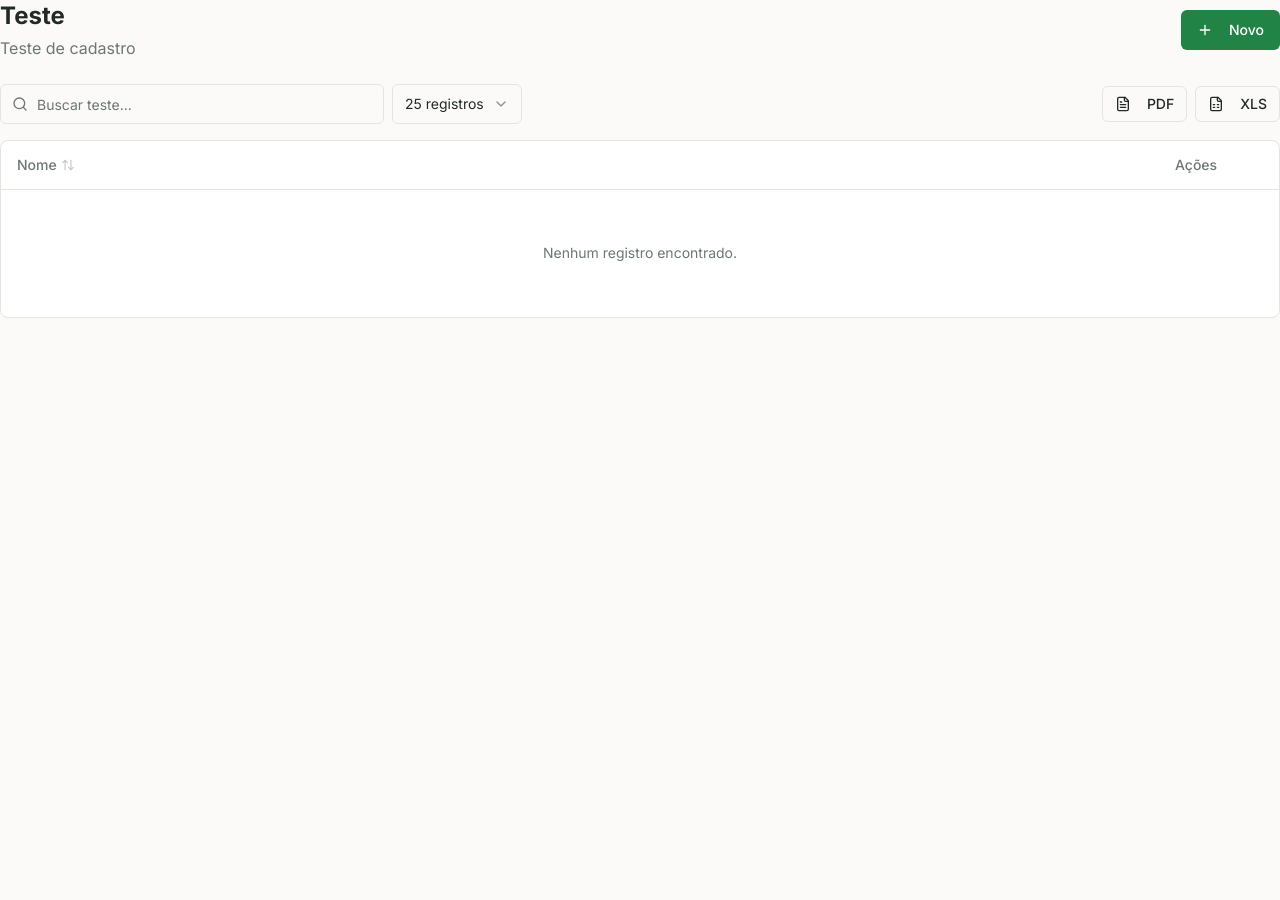
Scenario: CrudResourcePage › marca o campo exato retornado em um erro 422
The image size is (1280, 900).
Click the button "Novo" at (1230, 30), box 1181,10 -> 1279,50
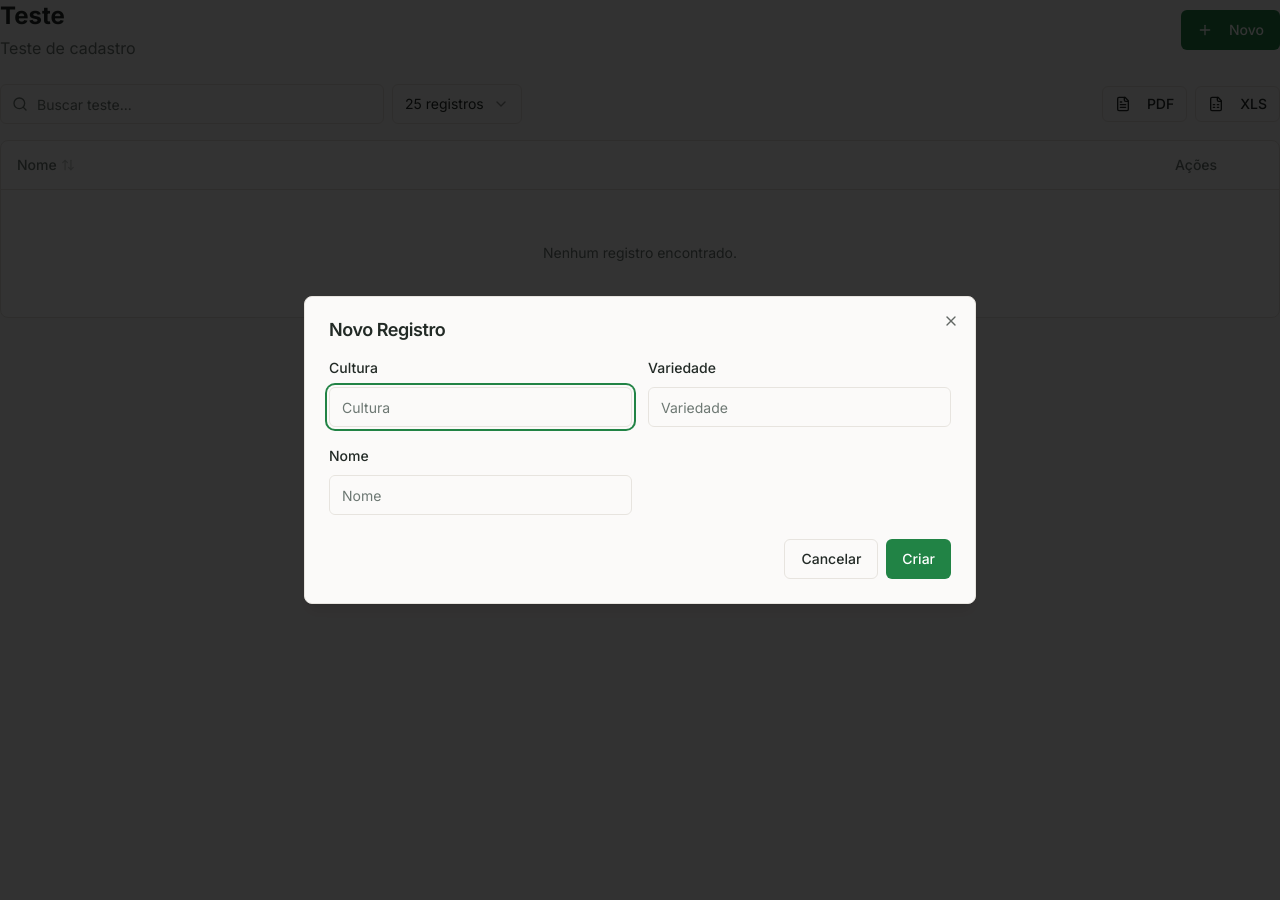
Type "Duplicado" into the field with placeholder "Nome" at (480, 495), box 329,475 -> 632,515
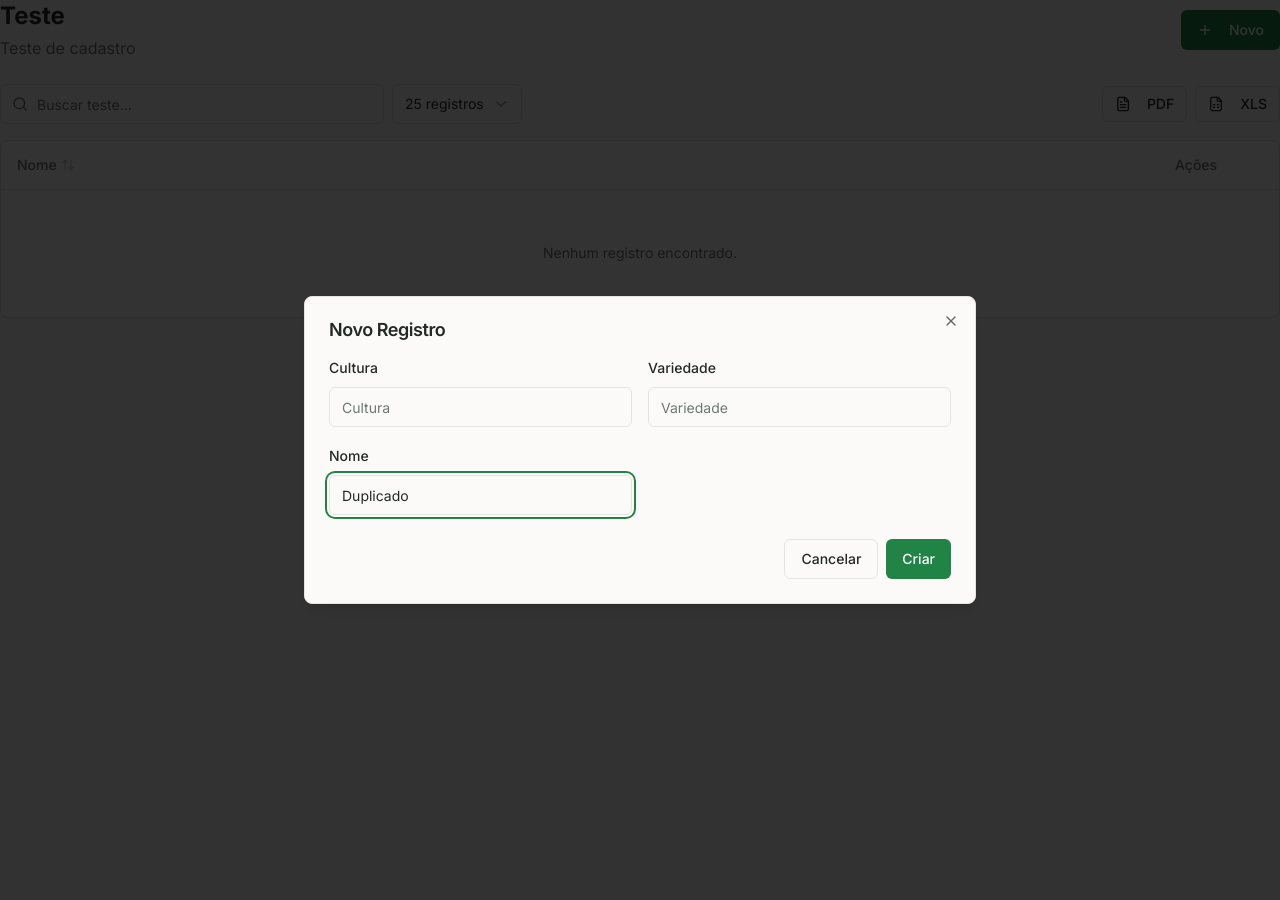
Click the button "Criar" at (919, 559), box 886,539 -> 951,579
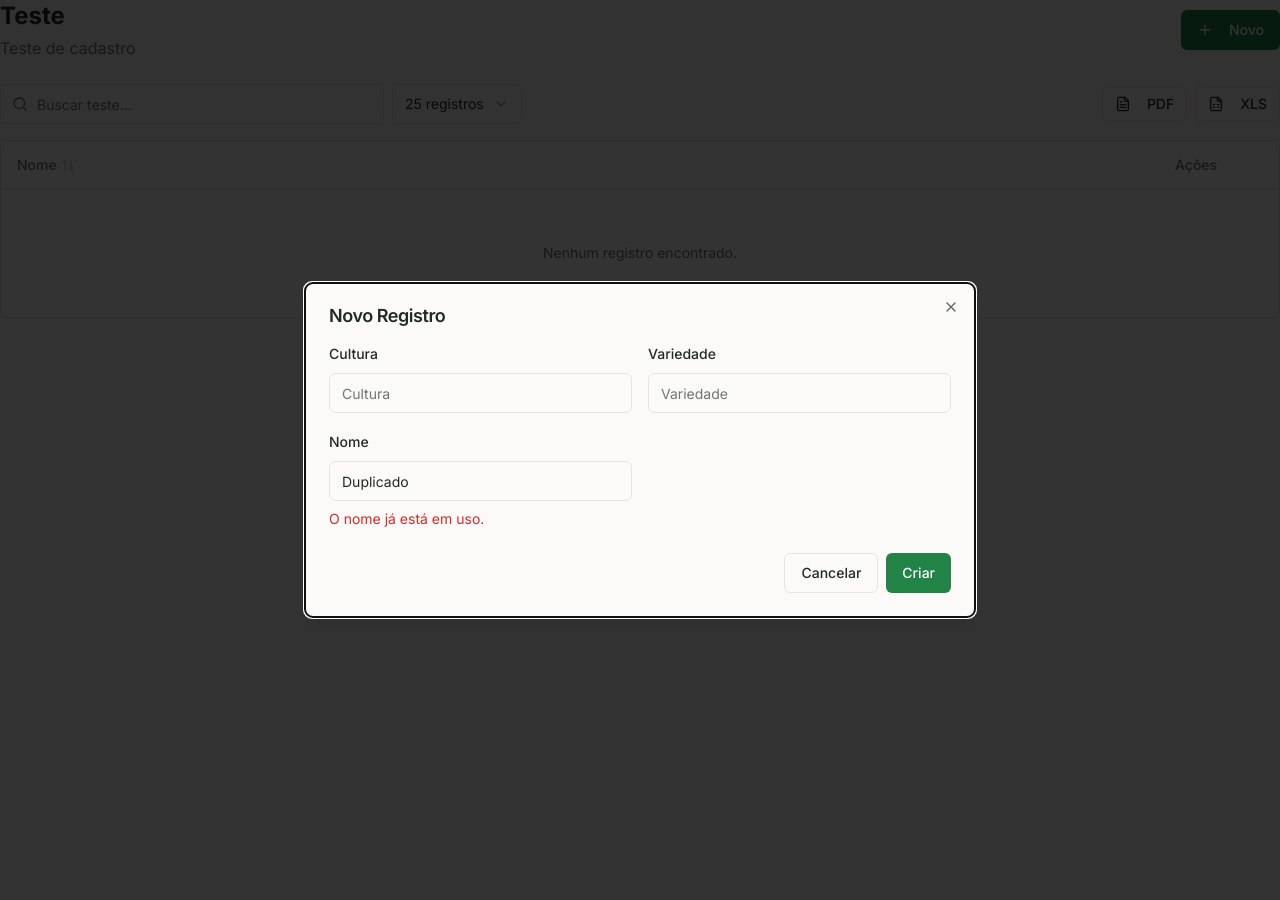
Result: the text "O nome já está em uso." is shown at 329,510 -> 484,527
